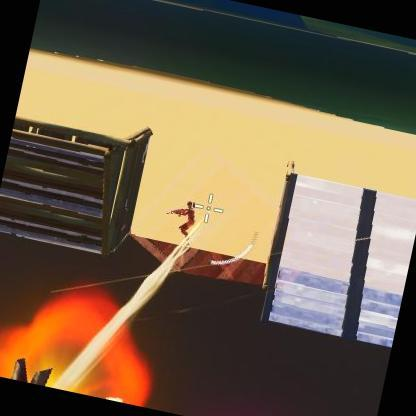person: (170, 202, 196, 243)
